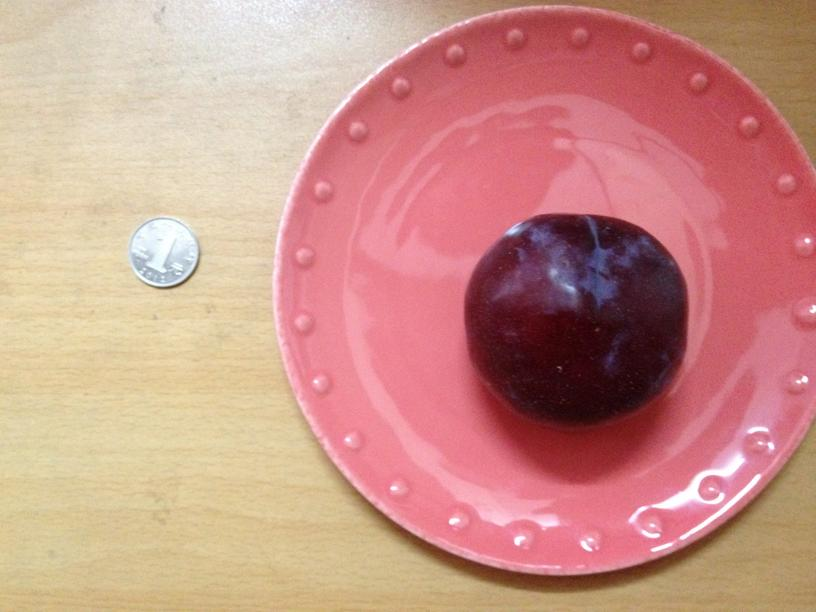coin: (120, 218, 203, 288)
plum: (468, 214, 687, 420)
